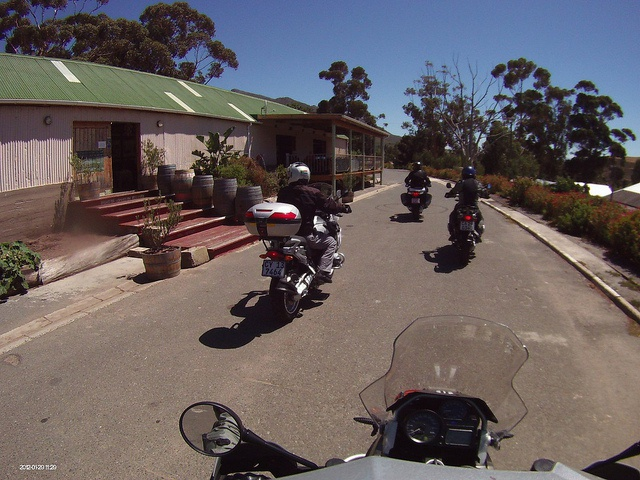non-vehicle: (177, 313, 639, 479), (243, 182, 350, 322), (443, 178, 495, 255), (400, 179, 433, 218)
